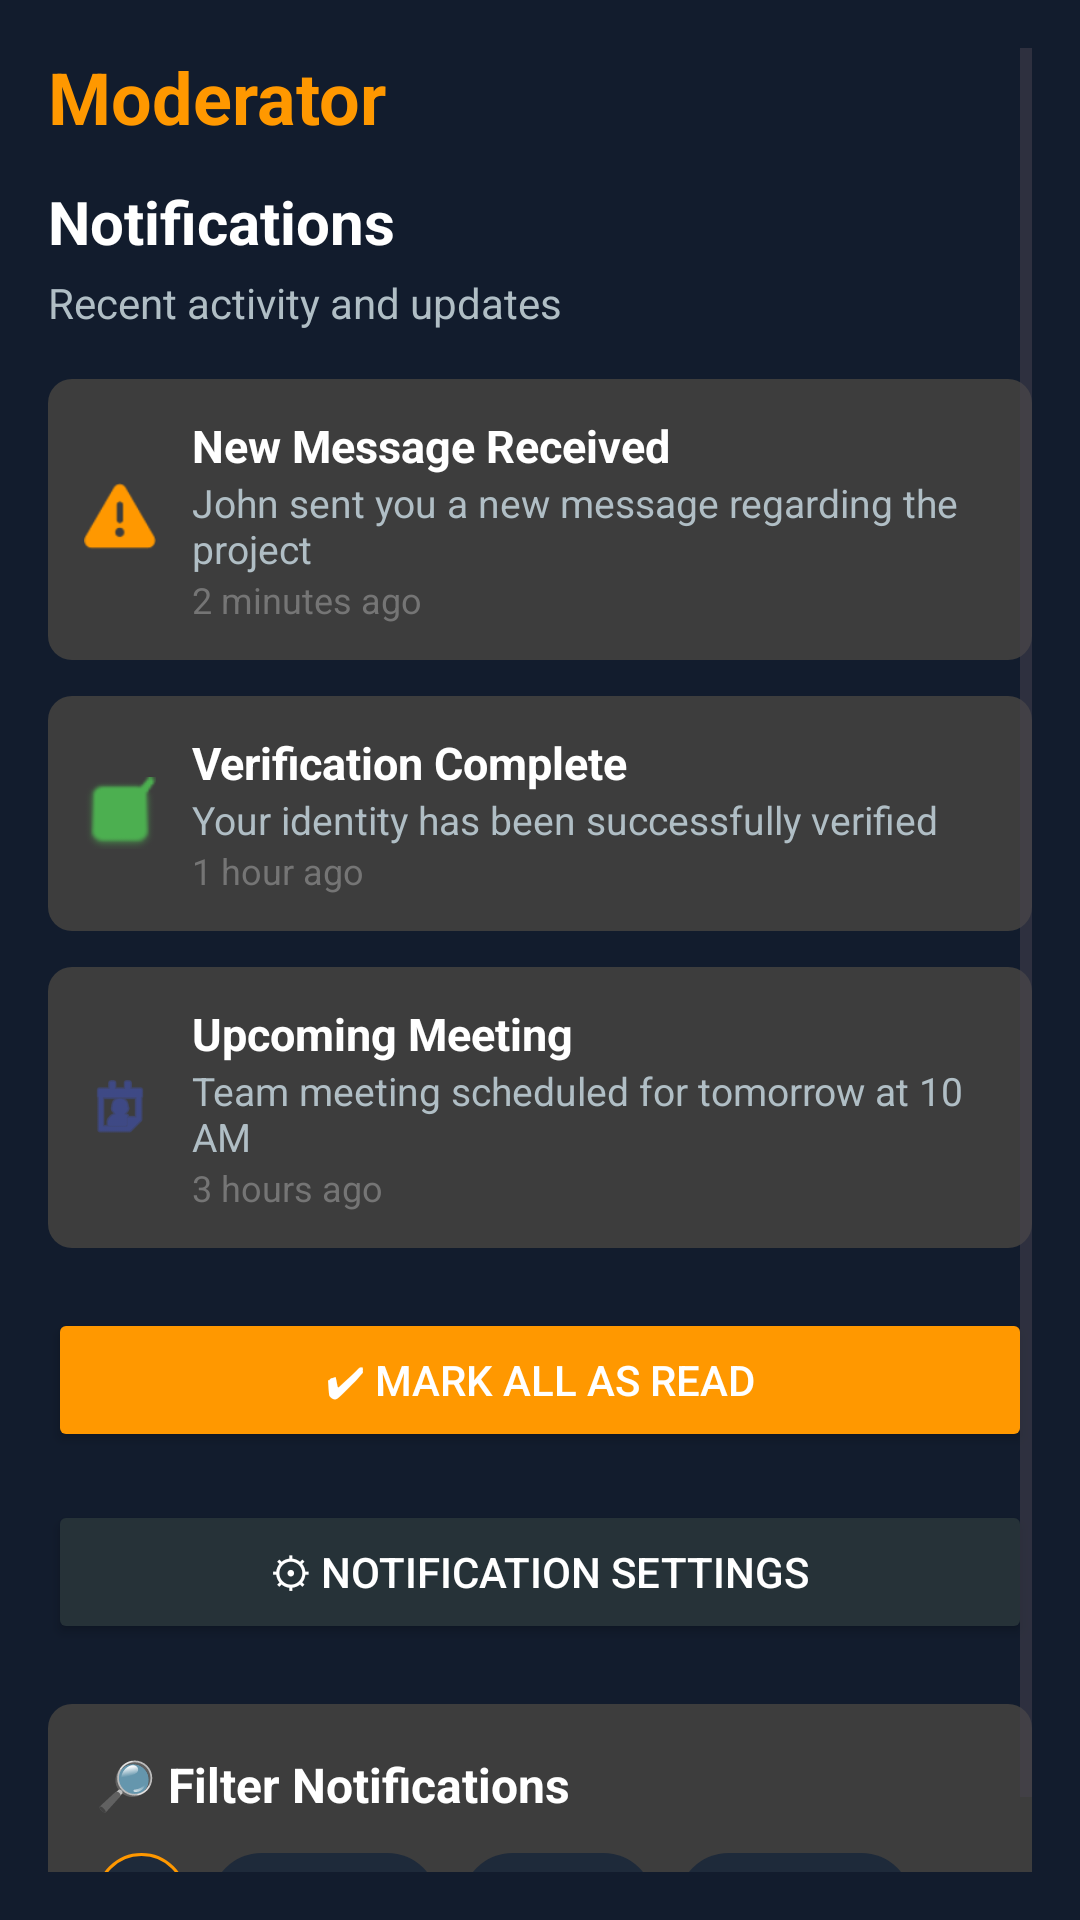

Where icons sit on this 1080×1920 app screen, as box(x1, y1, x2, y2):
alert: box(84, 483, 156, 549)
calendar: box(97, 1080, 143, 1132)
